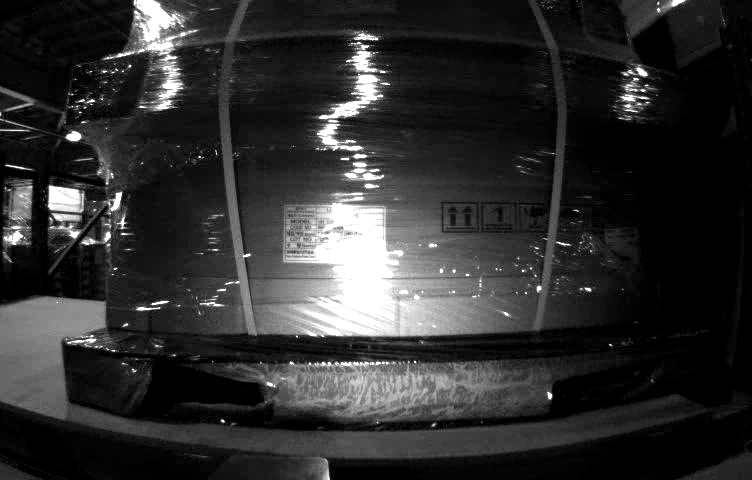True Barcode: (604, 228, 641, 267)
